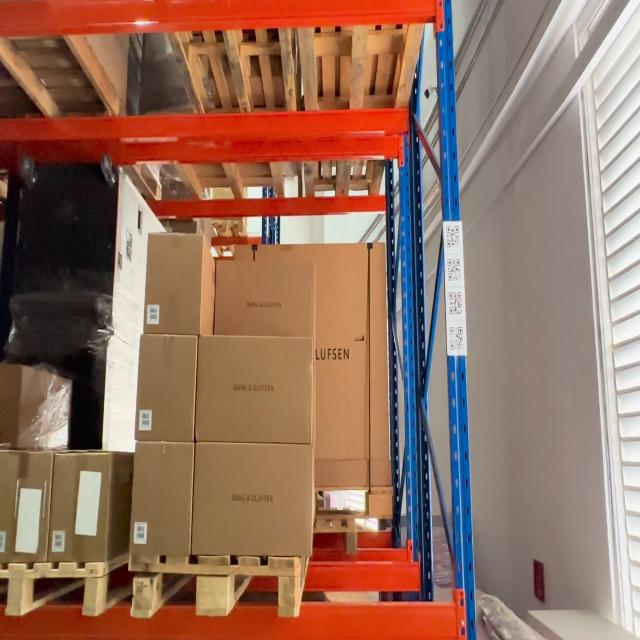box: (190, 446, 307, 555), (197, 334, 311, 443), (213, 259, 313, 337), (132, 444, 192, 555), (136, 338, 197, 438), (145, 234, 201, 333)
